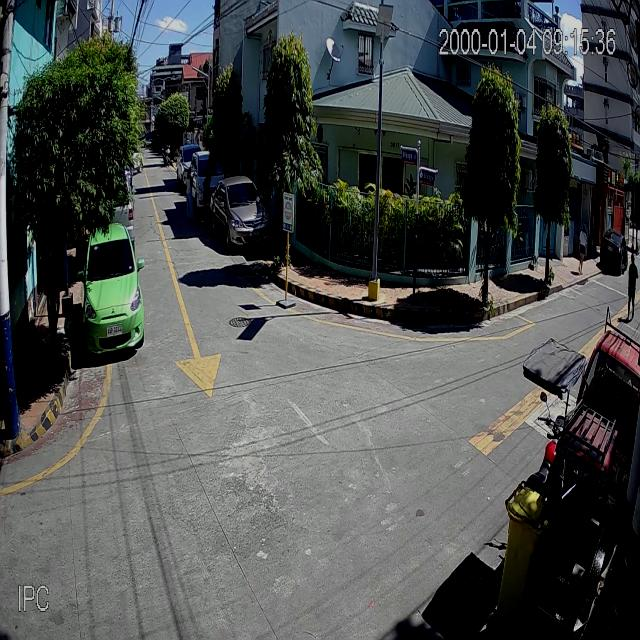standing: (200, 167, 214, 224), (186, 165, 198, 221)
walking: (624, 251, 640, 324), (576, 222, 588, 276)
